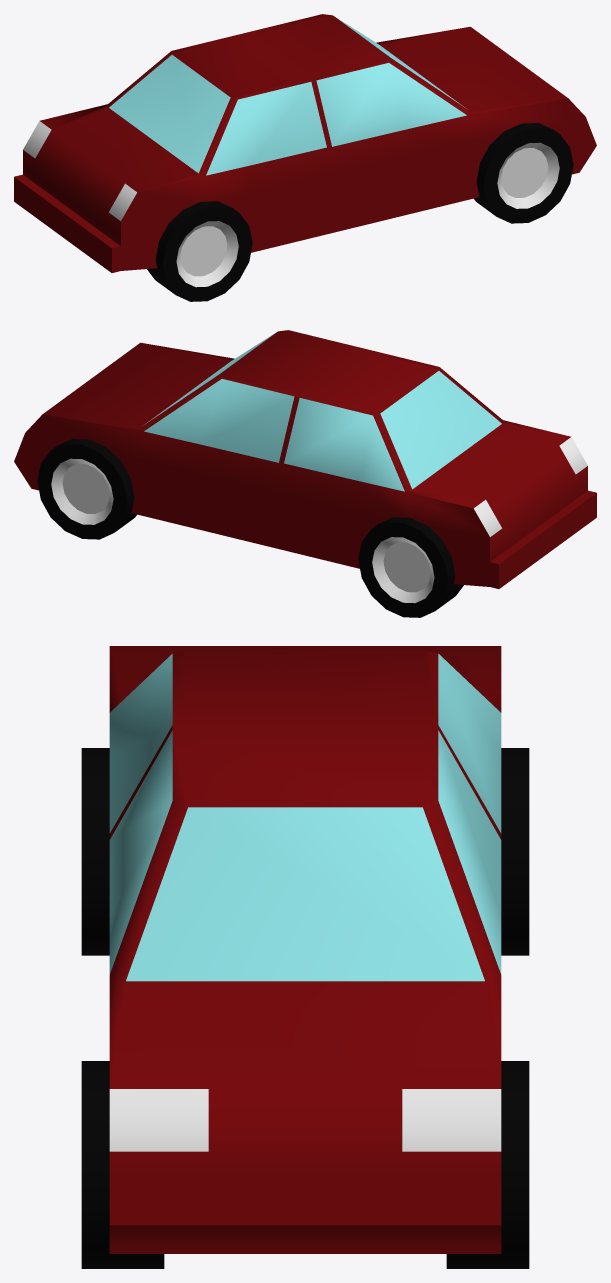
File: GenericCar1.fbx
3 renders of one model, top to bottom at view 1: azimuth 30°, elevation 25°; view 2: azimuth 150°, elevation 25°; view 3: azimuth 270°, elevation 25°, orthographic. The views are drawn at different scales.
Parts seen in each view (by area): view 1: Cube, Cylinder.001, Cylinder; view 2: Cube, Cylinder.001, Cylinder; view 3: Cube, Cylinder, Cylinder.001.
Boxes of the visible parts, bbox=[...] form: Cube: bbox=[14, 14, 596, 272]; Cylinder.001: bbox=[147, 201, 252, 301]; Cylinder: bbox=[474, 123, 573, 223]; Cube: bbox=[14, 330, 596, 588]; Cylinder.001: bbox=[358, 517, 463, 617]; Cylinder: bbox=[37, 439, 136, 539]; Cube: bbox=[109, 646, 501, 1253]; Cylinder: bbox=[81, 1061, 529, 1268]; Cylinder.001: bbox=[81, 748, 529, 955].
Bounding box in the file's own units: 464 × 157 × 185.
